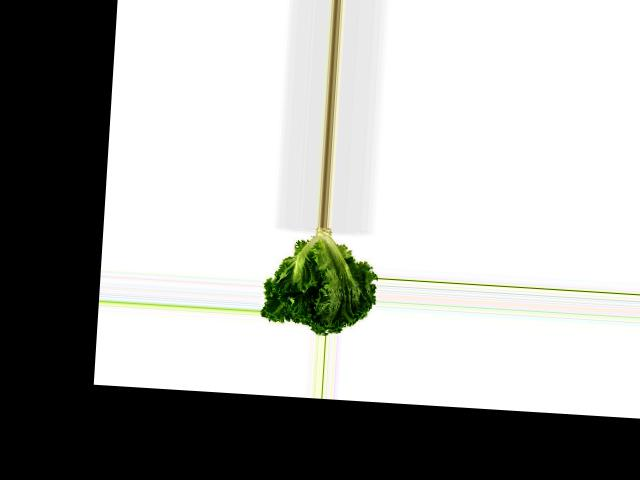lettuce: (260, 223, 380, 337)
